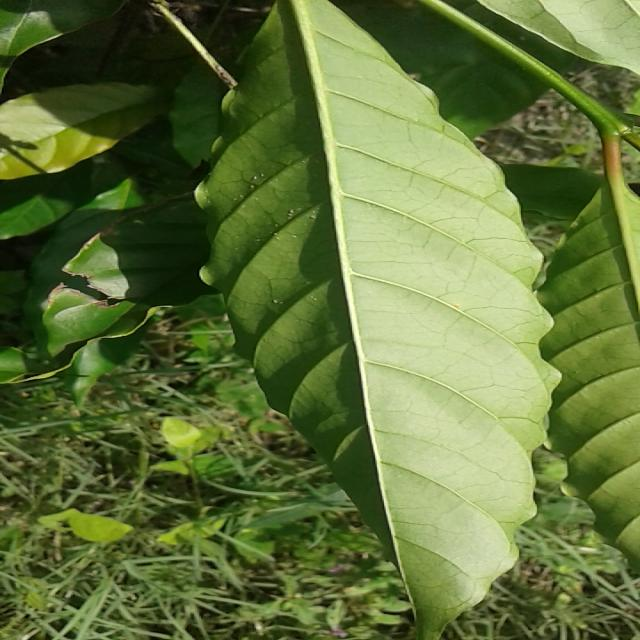Sanas: (202, 0, 561, 640)
